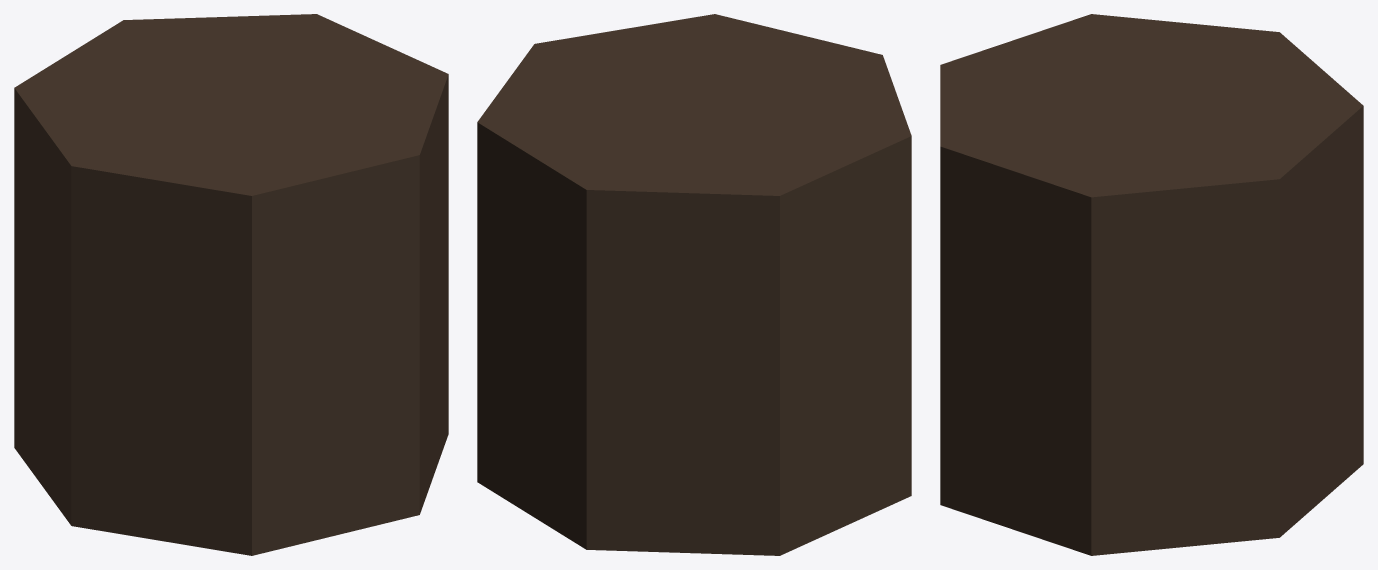
Rendered from stump_old.glb.
3 views of the same model, side by side, from view 1: azimuth 30°, elevation 25°; view 2: azimuth 150°, elevation 25°; view 3: azimuth 270°, elevation 25° (orthographic).
Visible parts, largest first — view 1: StumpOld; view 2: StumpOld; view 3: StumpOld.
Boxes of the visible parts, box(x1,y1,x2,y2) form: StumpOld: box(14, 14, 448, 555); StumpOld: box(477, 14, 911, 555); StumpOld: box(940, 14, 1363, 555).
Size of the model in its own units: 0.8774 by 0.8 by 0.8554.
